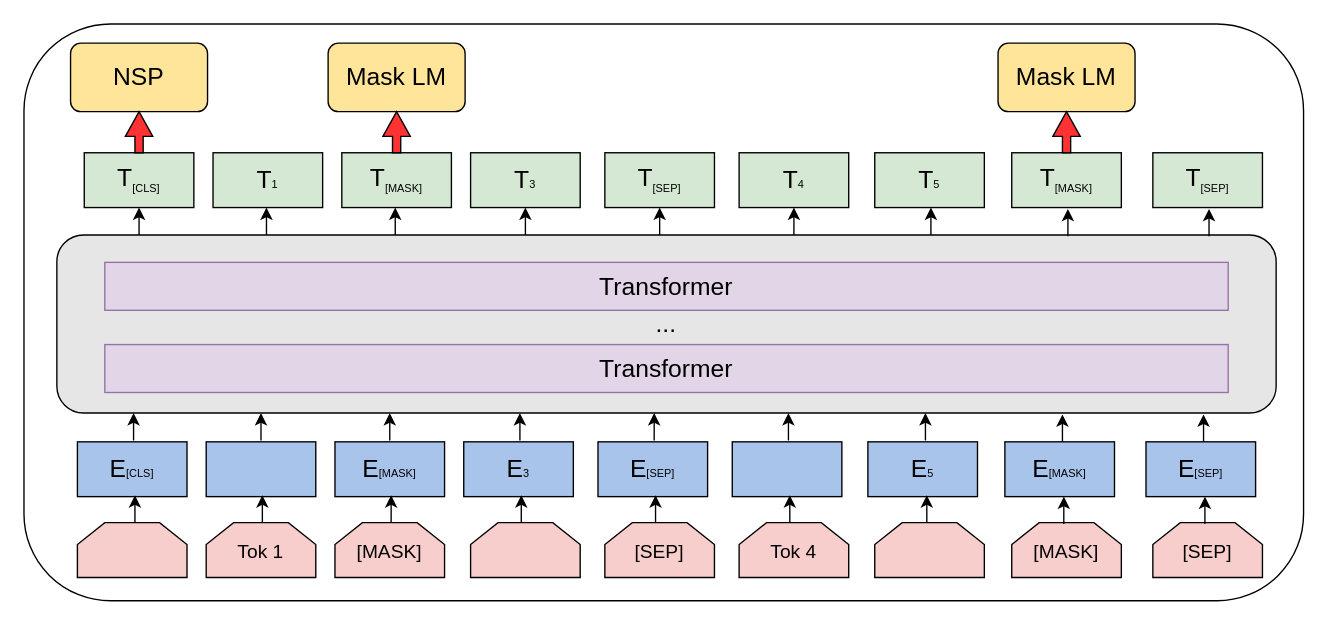
This 1328x625 diagram has some shape labels left out. The centre of each missing label's shape, as x and y in pixels:
"[CLS]" belongs at point 131,549.
"E 1" belongs at point 260,468.
"E 4" belongs at point 786,468.
"Tok 3" belongs at point 524,549.
"Tok 5" belongs at point 928,549.
